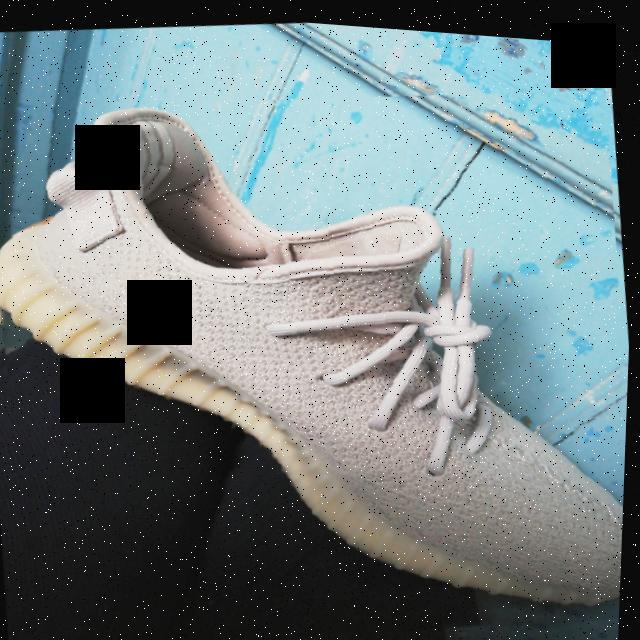shoe: (0, 44, 639, 640)
